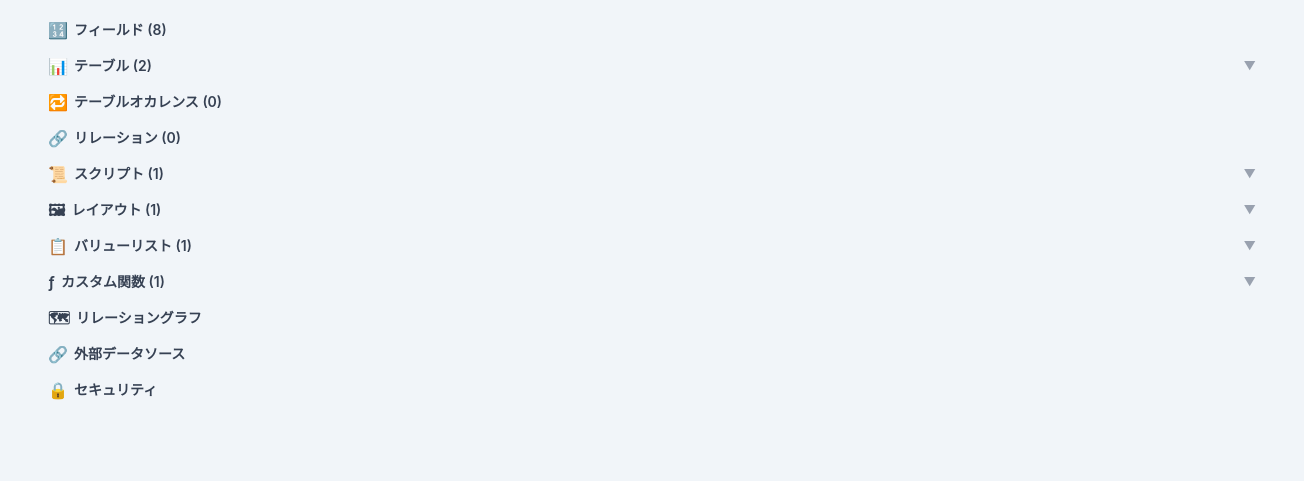
Test: CategoryTree › category_click_toggles_items
Expected: the text "Contact" is not shown
// テーブルカテゴリをクリック
Click the text "📊 テーブル (2)" at (100, 66), box [48,54,152,78]
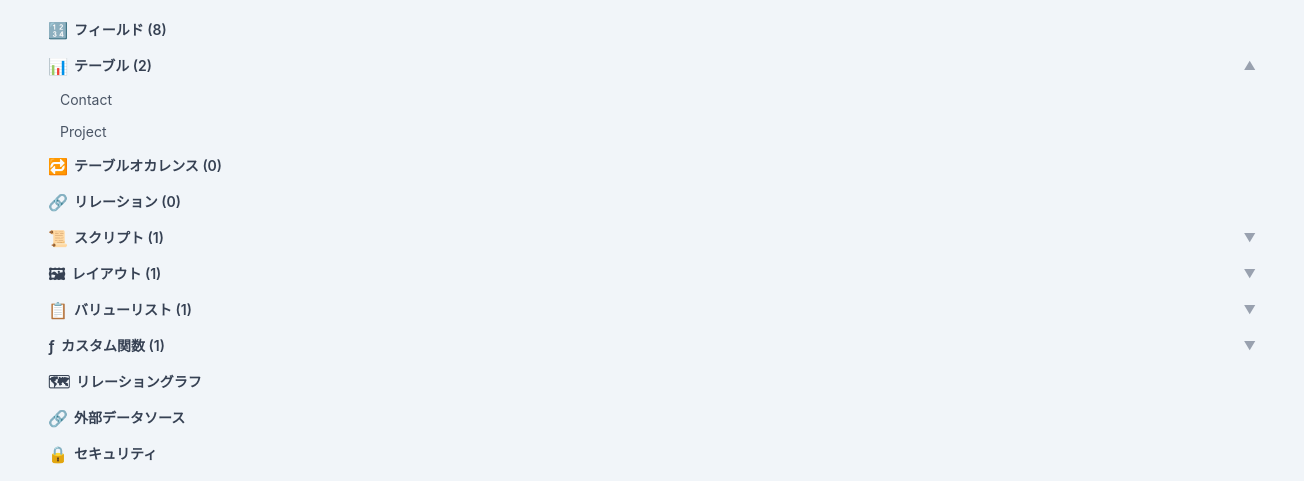
Expected: the button "Contact" is shown, [12,84,1292,116]
Expected: the button "Project" is shown, [12,116,1292,148]
// もう一度クリックで折りたたむ
Click the text "📊 テーブル (2)" at (100, 66), box [48,54,152,78]
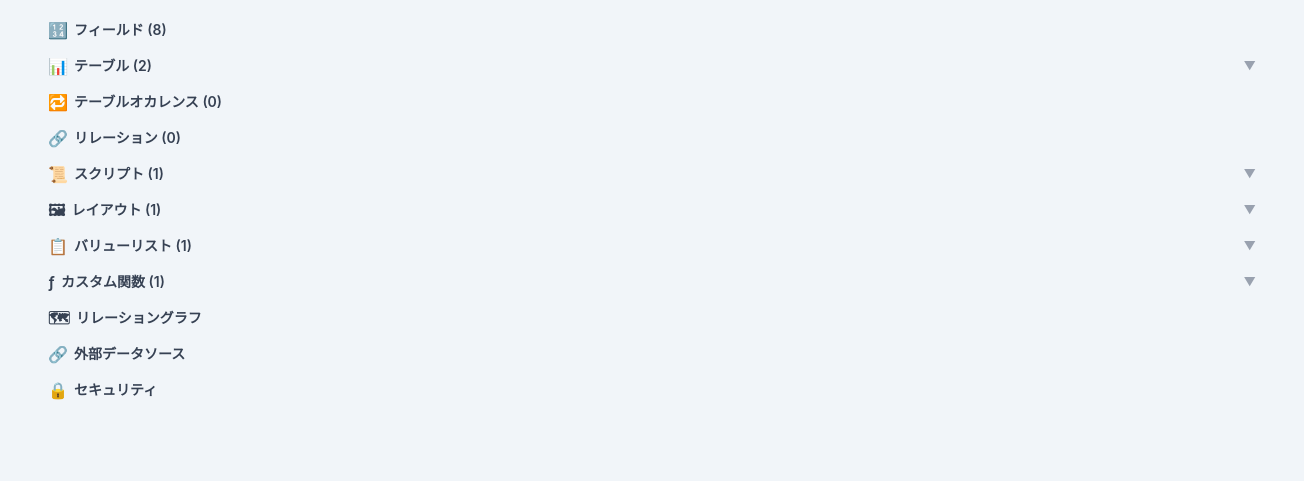
Expected: the button "Contact" is gone
